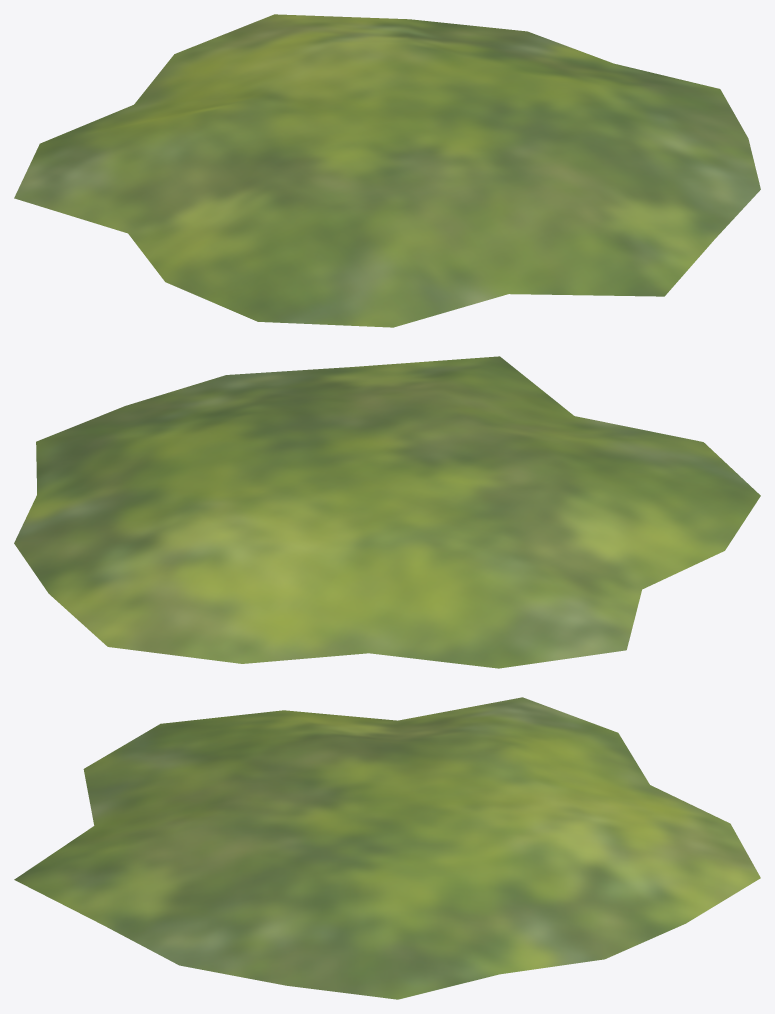
Rendered from Transition_Moss_A.glb.
3 renders of one model, top to bottom at view 1: azimuth 30°, elevation 25°; view 2: azimuth 150°, elevation 25°; view 3: azimuth 270°, elevation 25°, orthographic. The views are drawn at different scales.
Parts seen in each view (by area): view 1: Transition_Moss_A; view 2: Transition_Moss_A; view 3: Transition_Moss_A.
Part boxes in pixels (bbox=[...]): Transition_Moss_A: bbox=[14, 14, 760, 327]; Transition_Moss_A: bbox=[14, 356, 760, 668]; Transition_Moss_A: bbox=[14, 697, 760, 999].
Size of the model in its own units: 2.38 by 0.162 by 2.48.
Materials: 1 (1 with a texture image).
